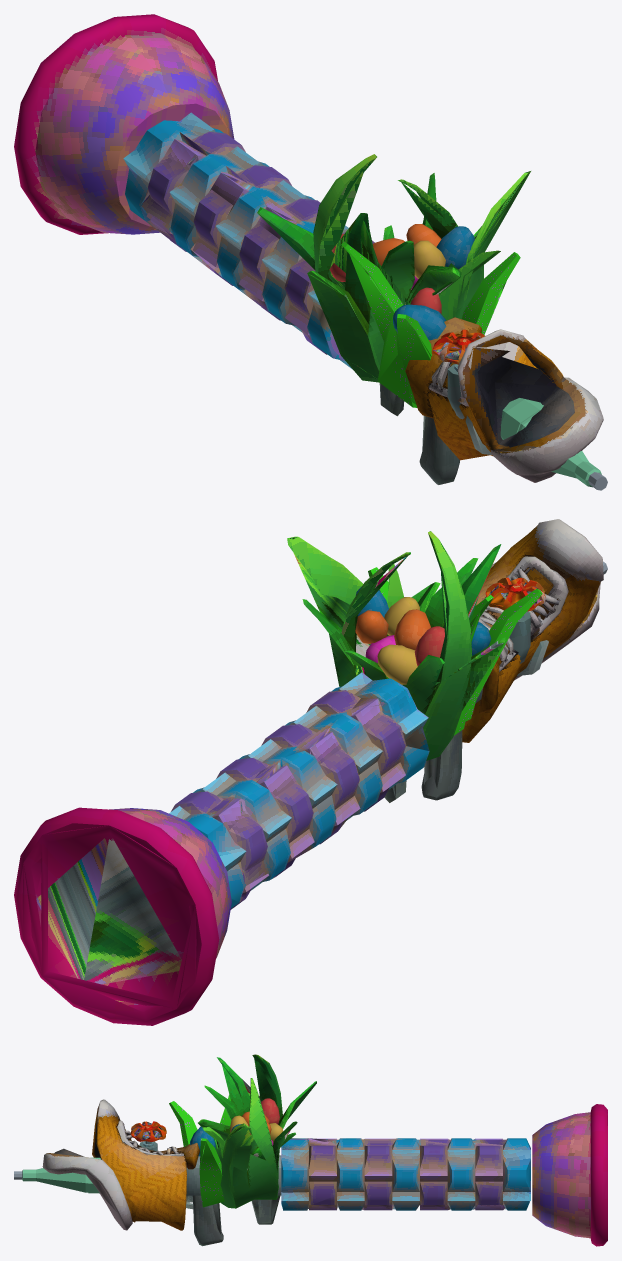
File: item_rpg_easter.glb
3 renders of one model, top to bottom at view 1: azimuth 30°, elevation 25°; view 2: azimuth 150°, elevation 25°; view 3: azimuth 270°, elevation 25°, orthographic. The views are drawn at different scales.
Visible parts, largest first — view 1: EggLauncher, RPG_ShoeRocket, Rocket_submesh_0; view 2: EggLauncher, RPG_ShoeRocket; view 3: EggLauncher, RPG_ShoeRocket, Rocket_submesh_0.
Part boxes in pixels (left/top/right/bottom): EggLauncher: left=14, top=14, right=530, bottom=484; RPG_ShoeRocket: left=405, top=317, right=603, bottom=482; Rocket_submesh_0: left=500, top=398, right=601, bottom=487; EggLauncher: left=14, top=531, right=548, bottom=1025; RPG_ShoeRocket: left=462, top=519, right=603, bottom=742; EggLauncher: left=130, top=1054, right=607, bottom=1246; RPG_ShoeRocket: left=42, top=1099, right=199, bottom=1230; Rocket_submesh_0: left=22, top=1157, right=100, bottom=1193.
Size of the model in its own units: 0.5029 by 0.656 by 1.94.
5 materials, 3 textured.
